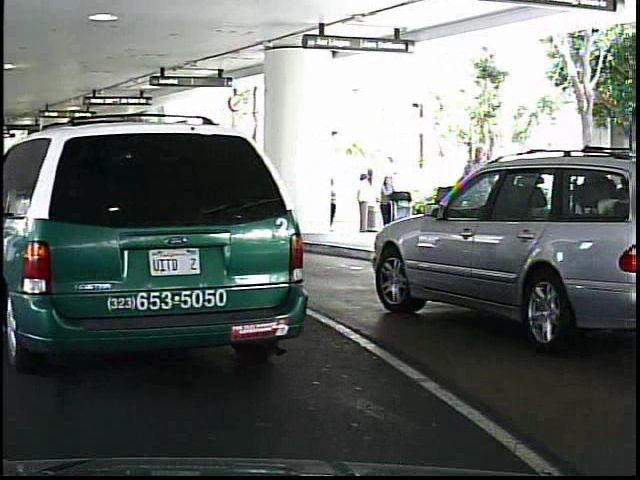person: (453, 139, 498, 270), (372, 170, 402, 240)
